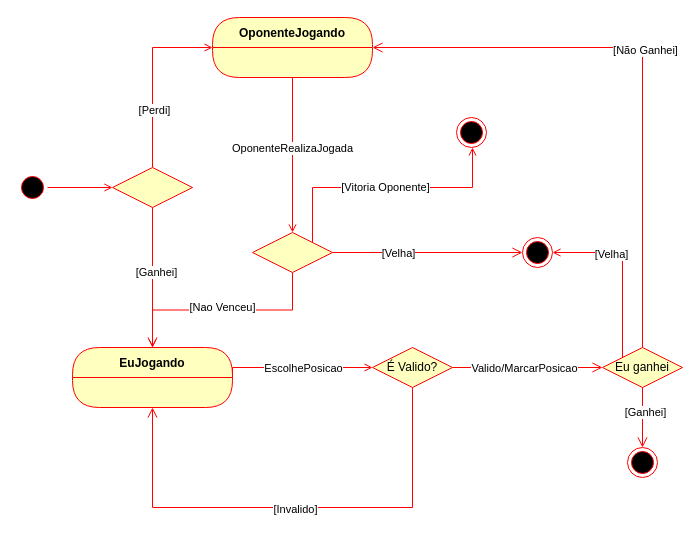
Some shapes in this 700 by 535 pixel diagram are drawn without their labels. The shapes that lost their labels are listed below. From the top down, each one's box as (x1, y1, x2, y2) in pixels, then its label:
(112, 166, 192, 208): Sorteio
(252, 232, 332, 272): Oponente Venceu?
